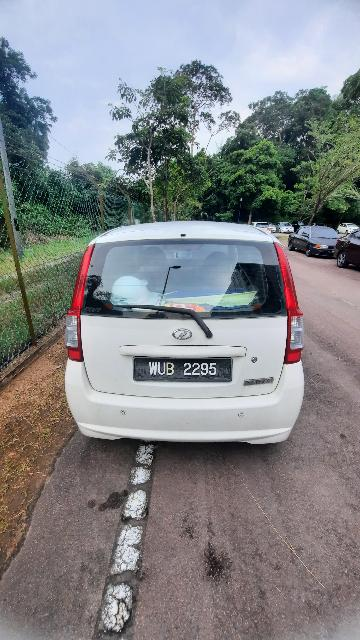License_Plate: (129, 353, 239, 389)
car: (65, 216, 306, 459)
